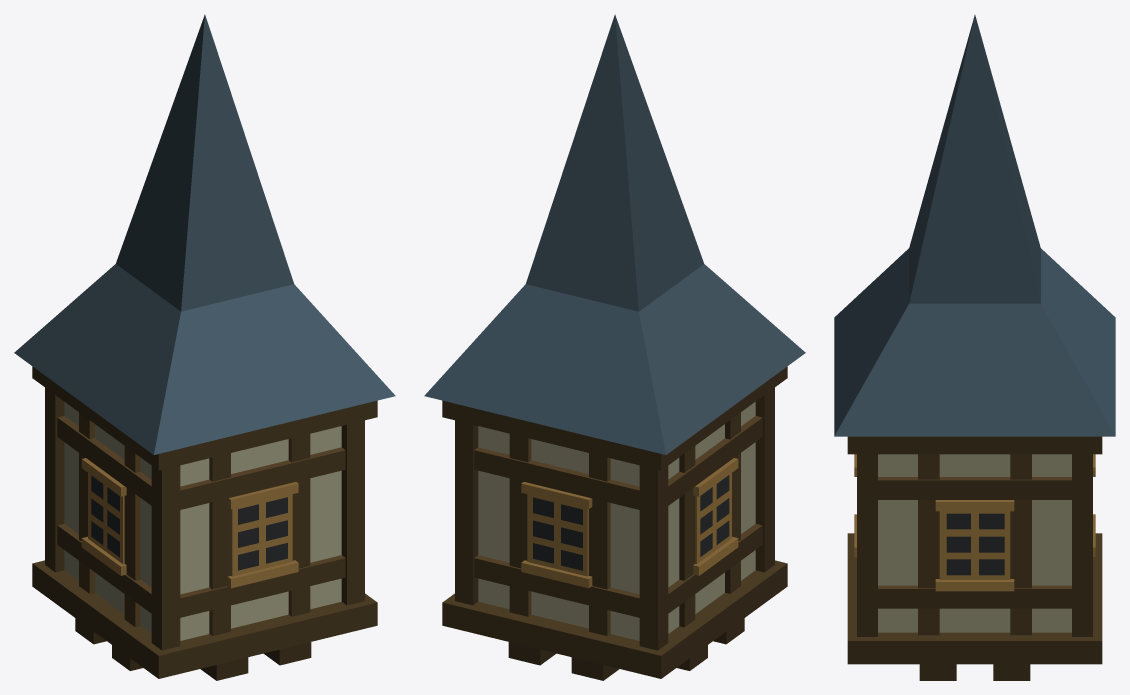
The model's file is SF_Bld_Castle_TallTower_Room_01.fbx.
3 renders of one model, left to right at view 1: azimuth 30°, elevation 25°; view 2: azimuth 150°, elevation 25°; view 3: azimuth 270°, elevation 25°, orthographic.
Visible parts, largest first — view 1: SF_Bld_Castle_TallTower_Room_01; view 2: SF_Bld_Castle_TallTower_Room_01; view 3: SF_Bld_Castle_TallTower_Room_01.
Boxes of the visible parts, x1=… form: SF_Bld_Castle_TallTower_Room_01: x1=14, y1=14, x2=395, y2=680; SF_Bld_Castle_TallTower_Room_01: x1=424, y1=14, x2=805, y2=680; SF_Bld_Castle_TallTower_Room_01: x1=834, y1=15, x2=1115, y2=680.
Size of the model in its own units: 7.52 by 18.18 by 7.52.
